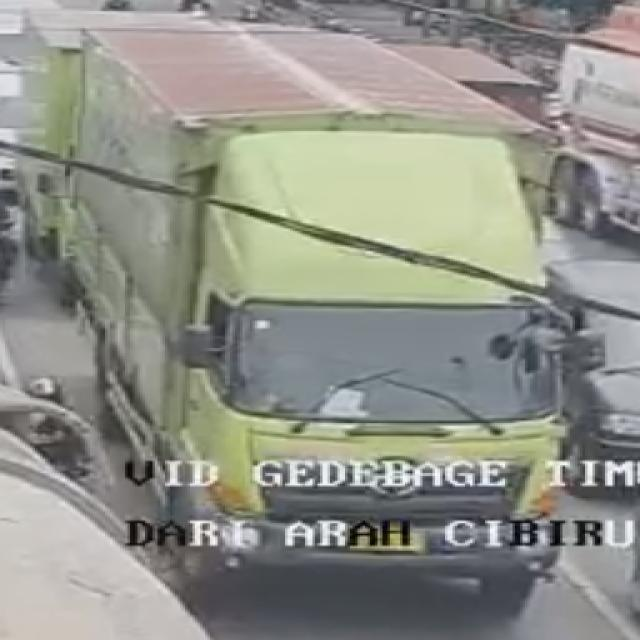truck: (48, 8, 615, 607)
